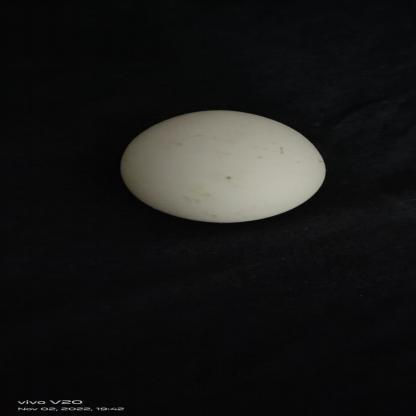egg: (119, 109, 330, 225)
